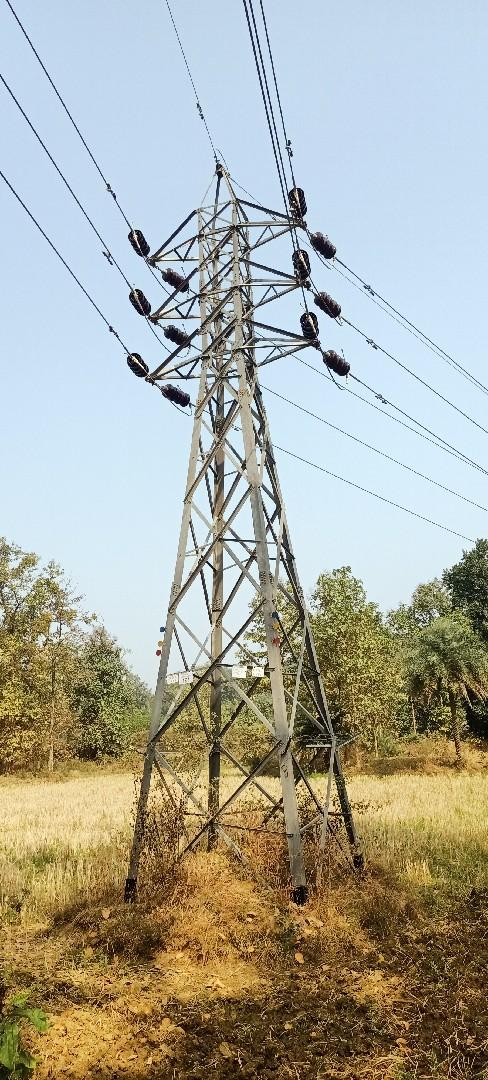GSM Antenna: (120, 141, 375, 833)
